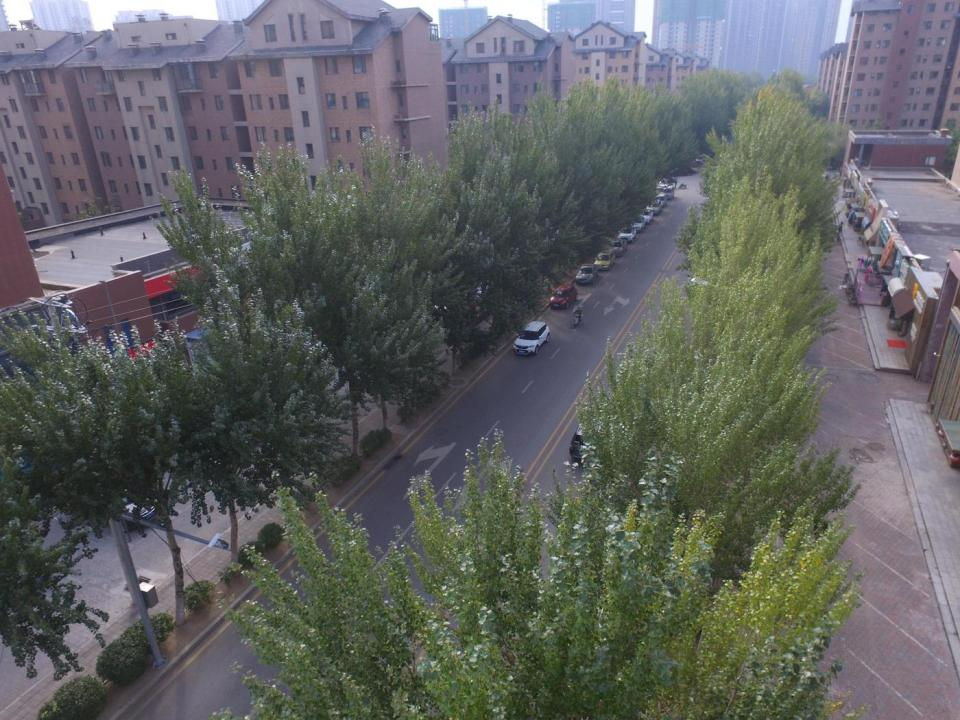car: (84, 450, 163, 530), (568, 416, 618, 464), (514, 320, 549, 356), (549, 285, 578, 309), (576, 262, 599, 286), (595, 251, 615, 272), (610, 238, 628, 259), (644, 198, 662, 217), (628, 217, 646, 234), (620, 226, 636, 244), (636, 208, 652, 226), (653, 194, 670, 209), (656, 178, 669, 192)
